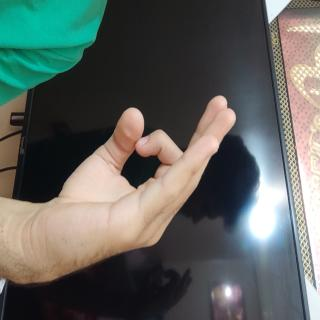Space: (66, 101, 227, 320)
